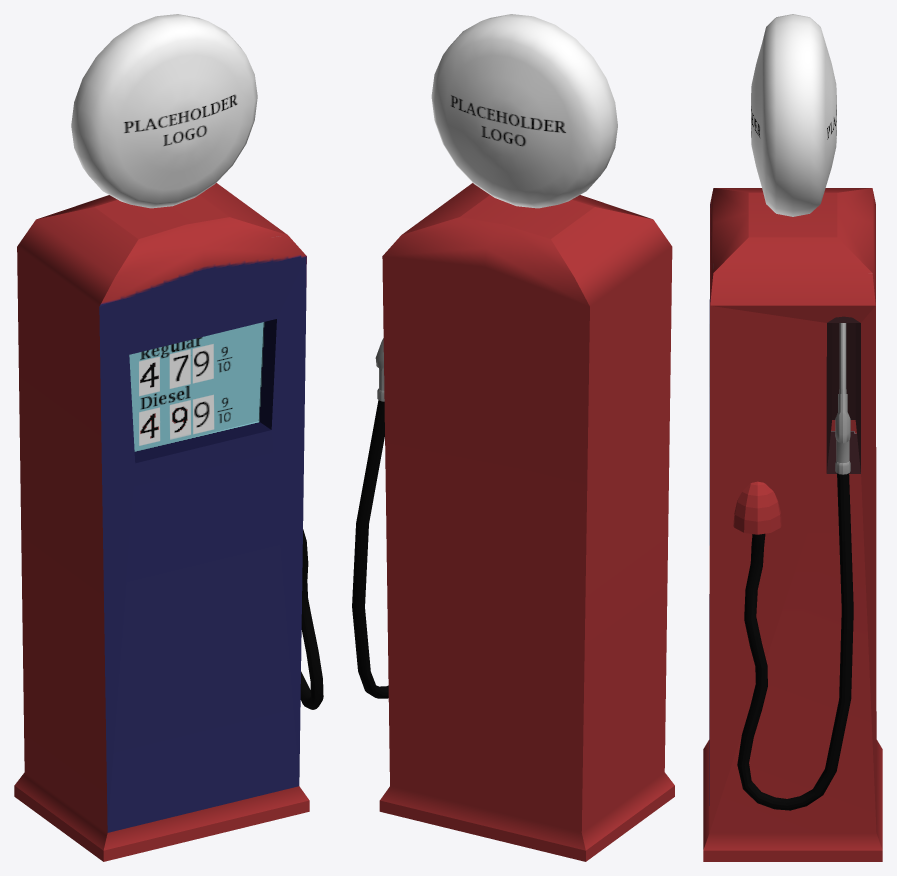
File: gaspump.fbx
The picture shows the model from 3 angles, left to right: view 1: azimuth 30°, elevation 25°; view 2: azimuth 150°, elevation 25°; view 3: azimuth 270°, elevation 25°; orthographic projection.
Visible parts, largest first — view 1: pCylinder5; view 2: pCylinder5; view 3: pCylinder5.
Part boxes in pixels (x1,y1,x2,y2): pCylinder5: [14, 14, 323, 861]; pCylinder5: [352, 14, 674, 861]; pCylinder5: [703, 14, 882, 861].
Size of the model in its own units: 1.78 by 5.26 by 1.08.
